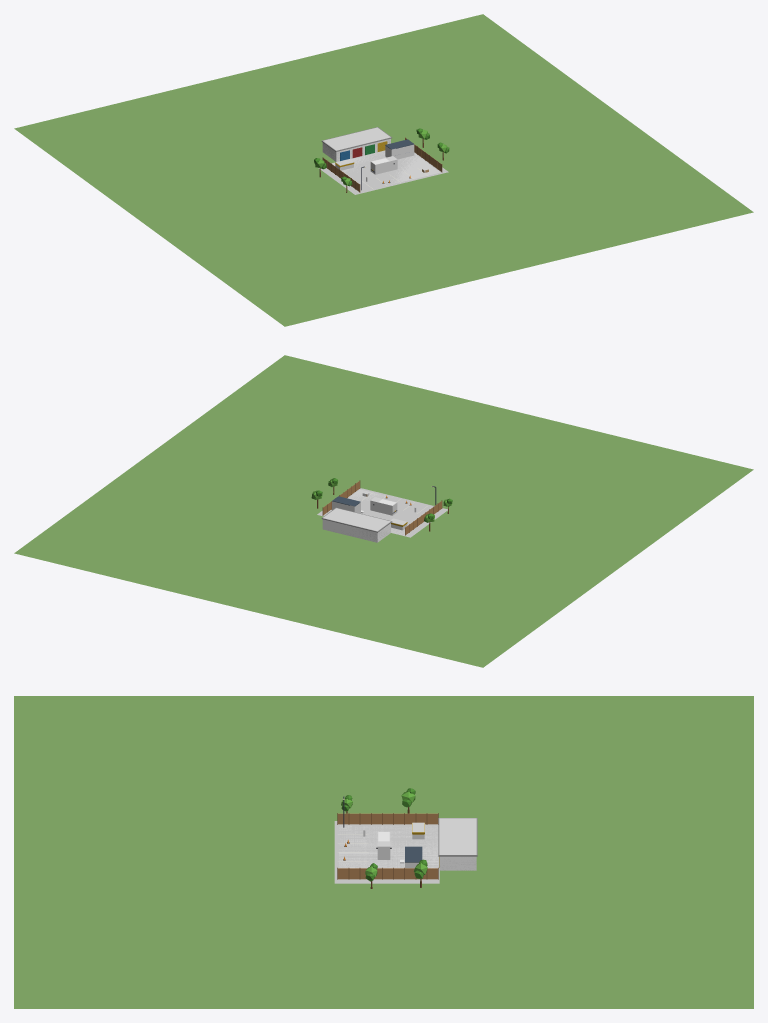
File: job3.glb
3 renders of one model, top to bottom at view 1: azimuth 30°, elevation 25°; view 2: azimuth 150°, elevation 25°; view 3: azimuth 270°, elevation 25°, orthographic. The views are drawn at different scales.
Parts seen in each view (by area): view 1: j3_bg, j3_col_2, j3_bounds; view 2: j3_bg, j3_col_2; view 3: j3_bg, j3_bounds, j3_col_2.
Boxes of the visible parts, x1,y1,x2,y2 form: j3_bg: (14,14,753,326); j3_col_2: (322,127,390,161); j3_bounds: (332,151,440,185); j3_bg: (14,355,753,667); j3_col_2: (323,508,390,542); j3_bg: (14,696,753,1008); j3_bounds: (339,825,438,868); j3_col_2: (439,818,476,870).
Size of the model in its own units: 120 by 5.66 by 120.
